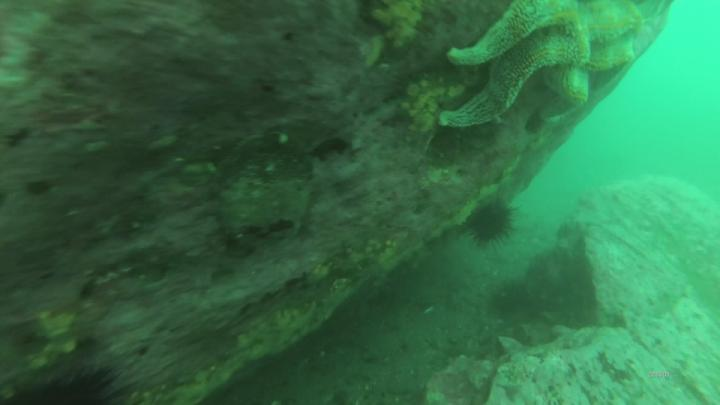echinus: (2, 365, 139, 405), (471, 192, 517, 249), (489, 277, 532, 318)
starfish: (437, 1, 648, 134)
